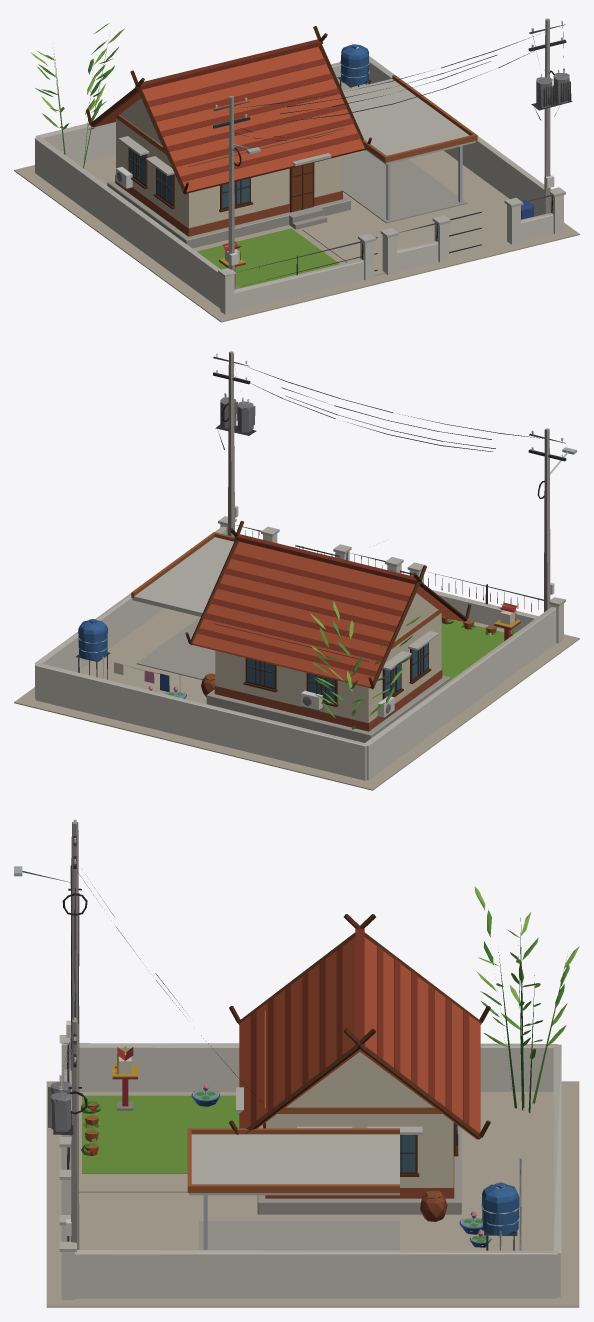
The model's file is home_1.glb.
3 renders of one model, top to bottom at view 1: azimuth 30°, elevation 25°; view 2: azimuth 150°, elevation 25°; view 3: azimuth 270°, elevation 25°, orthographic. The views are drawn at different scales.
Visible parts, largest first — view 1: body, windows; view 2: body, windows; view 3: body, windows.
Boxes of the visible parts, left/top/right/bottom form: body: left=14, top=18, right=579, bottom=322; windows: left=129, top=148, right=249, bottom=207; body: left=14, top=351, right=579, bottom=790; windows: left=247, top=643, right=428, bottom=702; body: left=14, top=819, right=579, bottom=1307; windows: left=400, top=1124, right=455, bottom=1172.
Size of the model in its own units: 16.31 by 9.31 by 16.89.
